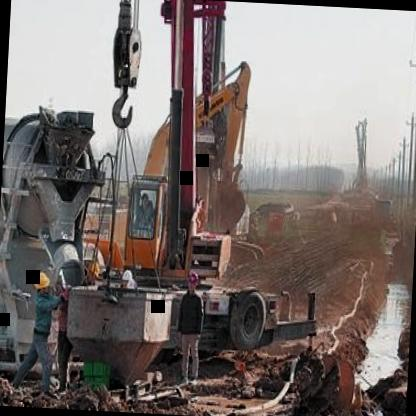helmet: (29, 270, 52, 302), (184, 266, 202, 298)
